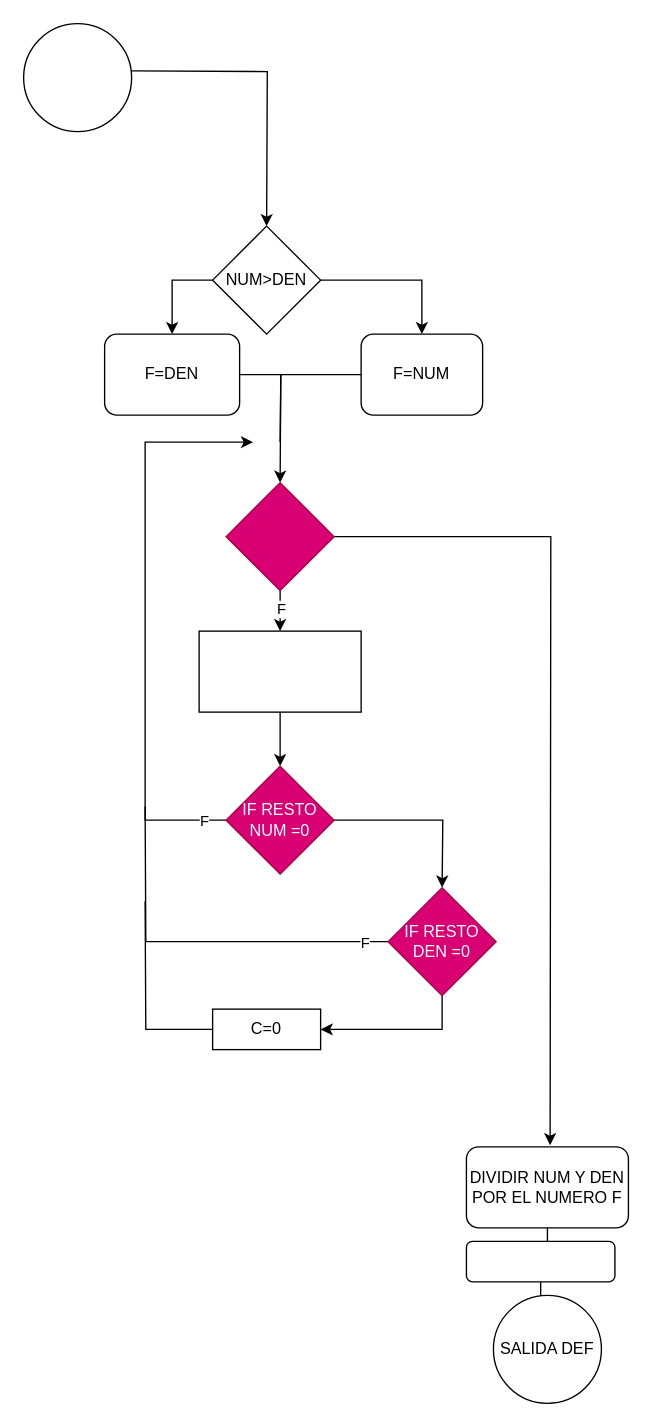
Image size: 652x1427. Some labels were removed from this diagram. Here are the shapes that lost their labels. From the top down, the box of each, then its label:
(22, 22, 132, 132): RESULTADO DE LA OPERACION ANTERIOR
(225, 481, 334, 591): C!=0
(198, 630, 361, 712): RESTO DE NUM Y F TAMBIEN PARA DEN
(465, 1240, 615, 1282): MOSTRAR RESULTADO FINAL
